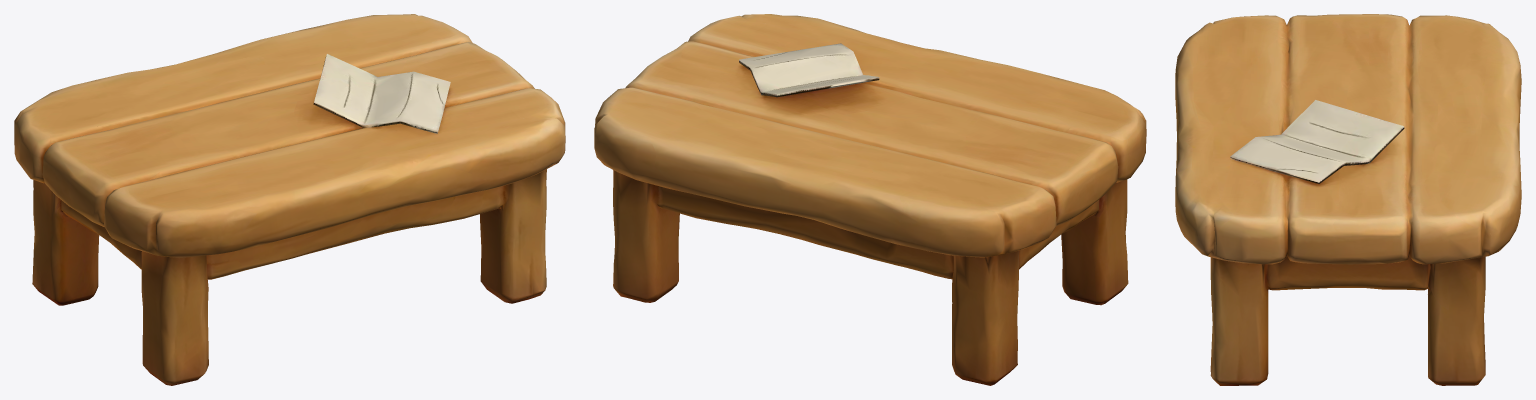
File: table.glb
3 views of the same model, side by side, from view 1: azimuth 30°, elevation 25°; view 2: azimuth 150°, elevation 25°; view 3: azimuth 270°, elevation 25° (orthographic).
Visible parts, largest first — view 1: tripo_node_71e83500-446d-45fb-a1ff-49c3dc1d4e04; view 2: tripo_node_71e83500-446d-45fb-a1ff-49c3dc1d4e04; view 3: tripo_node_71e83500-446d-45fb-a1ff-49c3dc1d4e04.
Part boxes in pixels (x1,y1,x2,y2): tripo_node_71e83500-446d-45fb-a1ff-49c3dc1d4e04: (14,14,565,385); tripo_node_71e83500-446d-45fb-a1ff-49c3dc1d4e04: (594,14,1146,385); tripo_node_71e83500-446d-45fb-a1ff-49c3dc1d4e04: (1175,14,1521,385).
Size of the model in its own units: 0.9805 by 0.429 by 0.668.
Materials: 1 (1 with a texture image).
